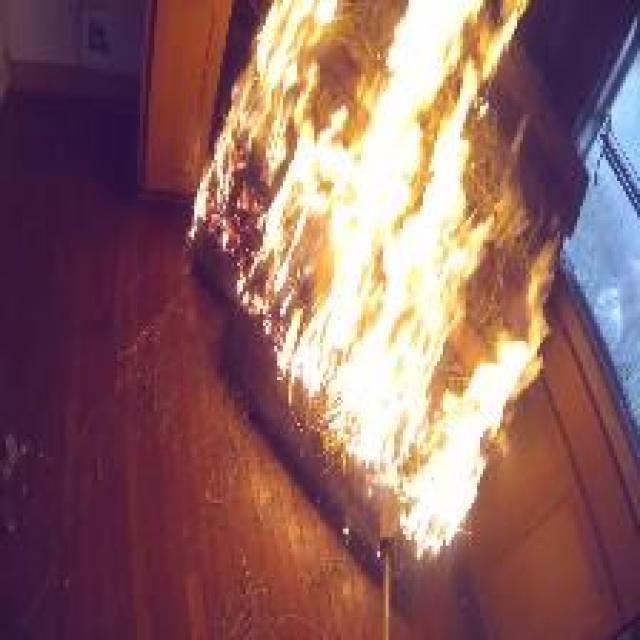Fire: (188, 0, 574, 556)
